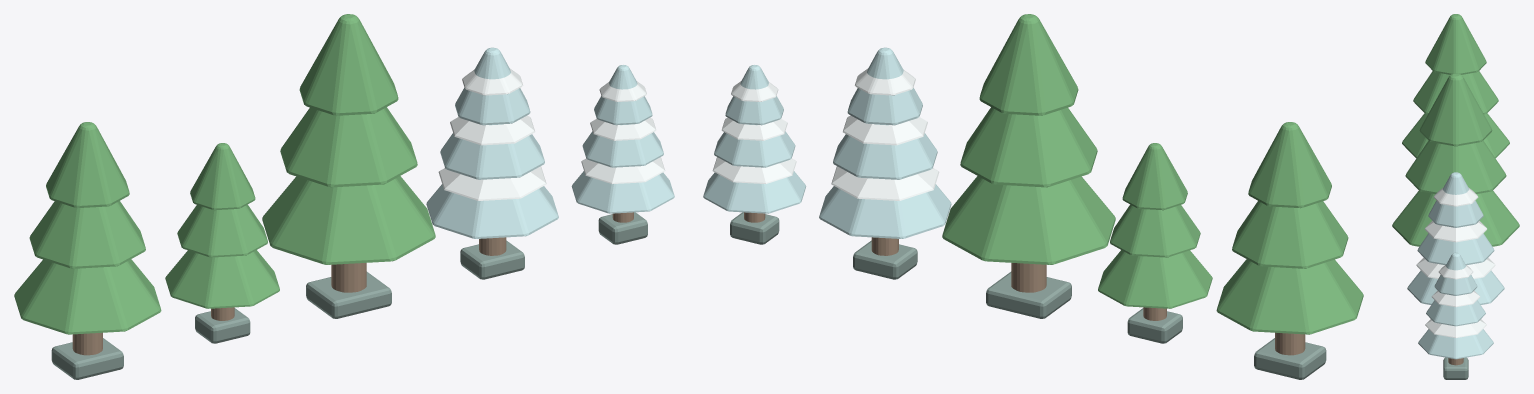
File: 07-pine-set.glb
The picture shows the model from 3 angles, left to right: view 1: azimuth 30°, elevation 25°; view 2: azimuth 150°, elevation 25°; view 3: azimuth 270°, elevation 25°; orthographic projection. The views are drawn at different scales.
Visible parts, largest first — view 1: Pine_2_Crown_0, Pine_0_Crown_0, Pine_2_Crown_1, Pine_2_Crown_2, Pine_0_Crown_1, Pine_1_Crown_0, Pine_3_Crown_0, Pine_0_Crown_2, Pine_1_Crown_1, Pine_3_Crown_1, Pine_4_Crown_0, Pine_3_Crown_2 (+16 smaller); view 2: Pine_2_Crown_0, Pine_0_Crown_0, Pine_2_Crown_1, Pine_2_Crown_2, Pine_0_Crown_1, Pine_1_Crown_0, Pine_3_Crown_0, Pine_0_Crown_2, Pine_1_Crown_1, Pine_3_Crown_1, Pine_4_Crown_0, Pine_3_Crown_2 (+16 smaller); view 3: Pine_2_Crown_1, Pine_2_Crown_2, Pine_2_Crown_0, Pine_0_Crown_2, Pine_3_Crown_1, Pine_0_Crown_1, Pine_3_Crown_2, Pine_4_Crown_0, Pine_3_Crown_0, Pine_0_Crown_0, Pine_4_Crown_1, Pine_4_Crown_2 (+7 smaller).
Boxes of the visible parts, x1,y1,x2,y2 form: Pine_2_Crown_0: (262, 176, 435, 264); Pine_0_Crown_0: (14, 259, 161, 334); Pine_2_Crown_1: (280, 107, 417, 187); Pine_2_Crown_2: (299, 14, 398, 115); Pine_0_Crown_1: (29, 201, 145, 268); Pine_1_Crown_0: (165, 250, 279, 308); Pine_3_Crown_0: (426, 184, 558, 238); Pine_0_Crown_2: (46, 122, 129, 208); Pine_1_Crown_1: (177, 204, 267, 257); Pine_3_Crown_1: (440, 124, 544, 179); Pine_4_Crown_0: (571, 171, 674, 213); Pine_3_Crown_2: (455, 47, 530, 125); Pine_2_Crown_0: (942, 176, 1115, 264); Pine_0_Crown_0: (1216, 259, 1363, 334); Pine_2_Crown_1: (960, 107, 1097, 187); Pine_2_Crown_2: (979, 14, 1078, 115); Pine_0_Crown_1: (1232, 201, 1348, 268); Pine_1_Crown_0: (1098, 250, 1212, 308); Pine_3_Crown_0: (819, 184, 951, 238); Pine_0_Crown_2: (1248, 122, 1331, 208); Pine_1_Crown_1: (1110, 204, 1200, 257); Pine_3_Crown_1: (833, 124, 937, 179); Pine_4_Crown_0: (703, 171, 806, 213); Pine_3_Crown_2: (847, 47, 922, 125); Pine_2_Crown_1: (1405, 140, 1506, 193); Pine_2_Crown_2: (1419, 73, 1492, 146); Pine_2_Crown_0: (1392, 190, 1519, 246); Pine_0_Crown_2: (1425, 14, 1486, 74); Pine_3_Crown_1: (1417, 233, 1494, 264); Pine_0_Crown_1: (1413, 71, 1498, 114); Pine_3_Crown_2: (1428, 172, 1483, 227); Pine_4_Crown_0: (1418, 329, 1493, 359); Pine_3_Crown_0: (1407, 270, 1504, 304); Pine_0_Crown_0: (1402, 113, 1509, 158); Pine_4_Crown_1: (1426, 300, 1485, 326); Pine_4_Crown_2: (1434, 252, 1477, 295).
Size of the model in its own units: 7.43 by 3.15 by 1.78.
